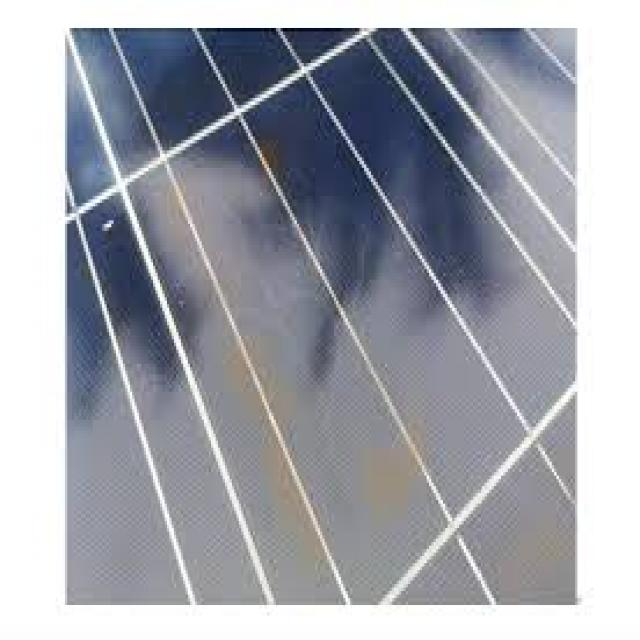faulty: (69, 24, 574, 596)
